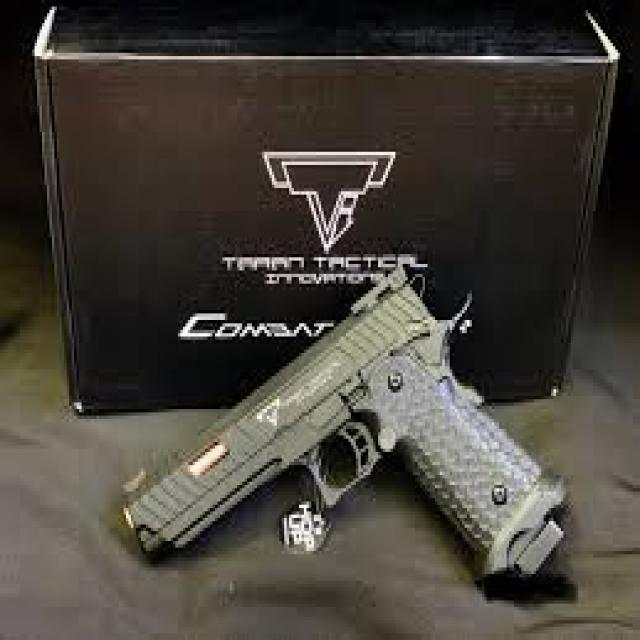semi automatic: (108, 236, 577, 608)
